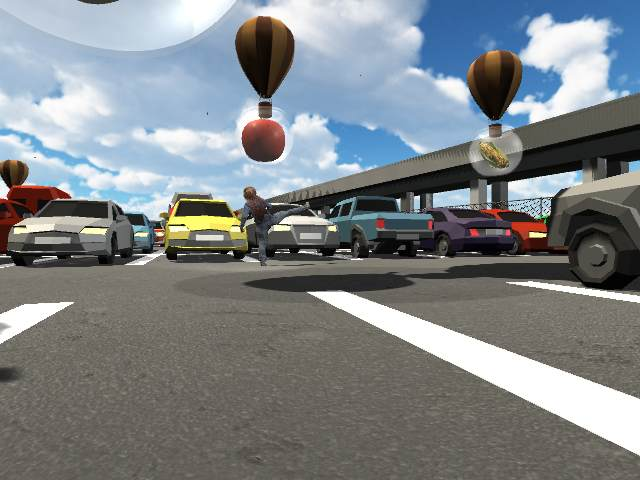turn_right: (240, 187, 314, 268)
